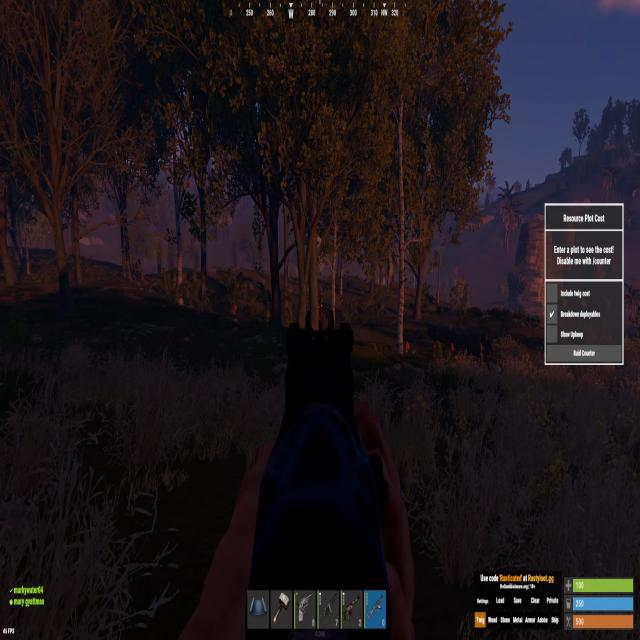Player: (318, 296, 325, 320)
